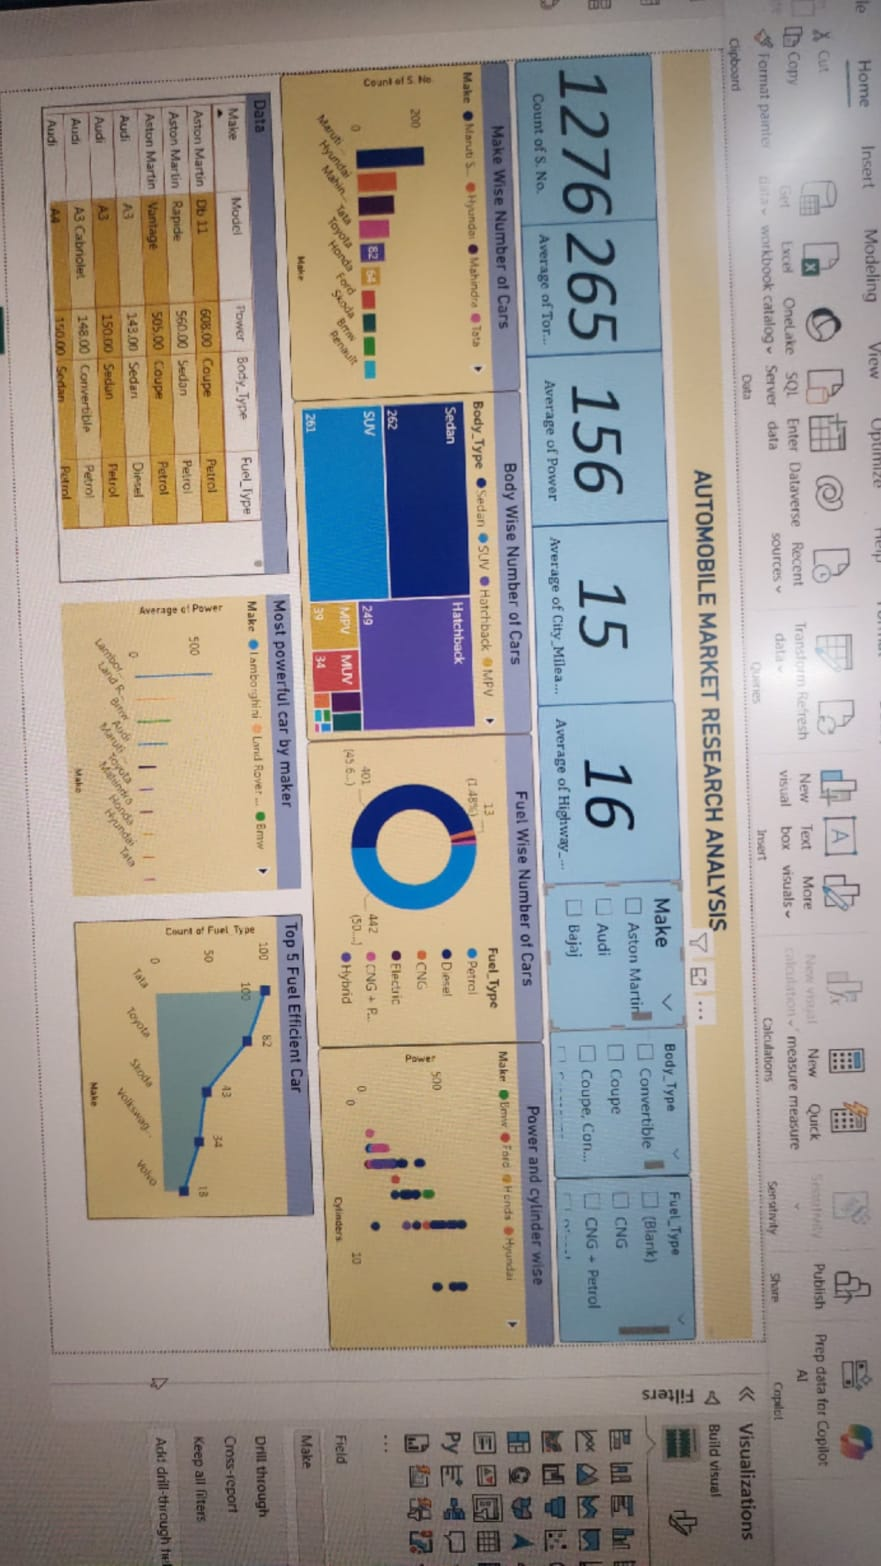

What the dashboard file says about the page in this screenshot:
{"tool":"powerbi","page":{"name":"Page 2","canvas":[1280,720],"ordinal":1},"visuals":[{"type":"card","fields":{"Values":["CountNonNull(cars_ds_final.S. No.)"]},"box":[10,0,280,280],"z":0},{"type":"card","fields":{"Values":["Avg(cars_ds_final.Torque)"]},"box":[269.6,0,279.5,281.2],"z":1000},{"type":"card","fields":{"Values":["Avg(cars_ds_final.Power)"]},"box":[549.1,0,279.5,281.2],"z":2000},{"type":"card","fields":{"Values":["Avg(cars_ds_final.Height_mm)"]},"box":[812,0,279.5,281.2],"z":3000},{"type":"columnChart","fields":{"Category":["cars_ds_final.Make"],"Y":["CountNonNull(cars_ds_final.S. No.)"]},"box":[10,281.2,279.5,281.2],"z":4000},{"type":"treemap","fields":{"Group":["cars_ds_final.Body_Type"],"Details":["cars_ds_final.Make"],"Values":["CountNonNull(cars_ds_final.Model)"]},"box":[289.5,281.2,279.5,149.8],"z":5000},{"type":"donutChart","fields":{"Category":["cars_ds_final.Fuel_Type"],"Y":["CountNonNull(cars_ds_final.Make)"]},"box":[559.1,281.2,257.9,149.8],"z":6000},{"type":"scatterChart","fields":{"Category":["cars_ds_final.Make"],"X":["Sum(cars_ds_final.Power)"],"Y":["Sum(cars_ds_final.Cylinders)"]},"box":[812,281.2,262.9,149.8],"z":7000},{"type":"tableEx","fields":{"Values":["cars_ds_final.Make","cars_ds_final.Model","cars_ds_final.Body_Type","Sum(cars_ds_final.Power)"]},"box":[10,570.7,377.7,149.8],"z":7001},{"type":"areaChart","fields":{"Category":["cars_ds_final.Make"],"Y":["CountNonNull(cars_ds_final.Fuel_Type)"]},"box":[419.3,537.4,281.2,149.8],"z":7002},{"type":"slicer","fields":{"Values":["cars_ds_final.Body_Type"]},"box":[812,537,263,150],"z":7003}]}

Visuals, with their boxes on the page's 1280x720 design canvas (x1, y1, x2, y2). These are canvas units, not pixel positions in the 881x1566 screenshot, which may show the page scaled, cropped or inside an application window:
card - CountNonNull(cars_ds_final.S. No.): [left=10, top=0, right=290, bottom=280]
card - Avg(cars_ds_final.Torque): [left=270, top=0, right=549, bottom=281]
card - Avg(cars_ds_final.Power): [left=549, top=0, right=829, bottom=281]
card - Avg(cars_ds_final.Height_mm): [left=812, top=0, right=1092, bottom=281]
columnChart - cars_ds_final.Make x CountNonNull(cars_ds_final.S. No.): [left=10, top=281, right=290, bottom=562]
treemap - cars_ds_final.Body_Type x cars_ds_final.Make: [left=290, top=281, right=569, bottom=431]
donutChart - cars_ds_final.Fuel_Type x CountNonNull(cars_ds_final.Make): [left=559, top=281, right=817, bottom=431]
scatterChart - cars_ds_final.Make x Sum(cars_ds_final.Power): [left=812, top=281, right=1075, bottom=431]
tableEx - cars_ds_final.Make x cars_ds_final.Model: [left=10, top=571, right=388, bottom=720]
areaChart - cars_ds_final.Make x CountNonNull(cars_ds_final.Fuel_Type): [left=419, top=537, right=700, bottom=687]
slicer - cars_ds_final.Body_Type: [left=812, top=537, right=1075, bottom=687]
